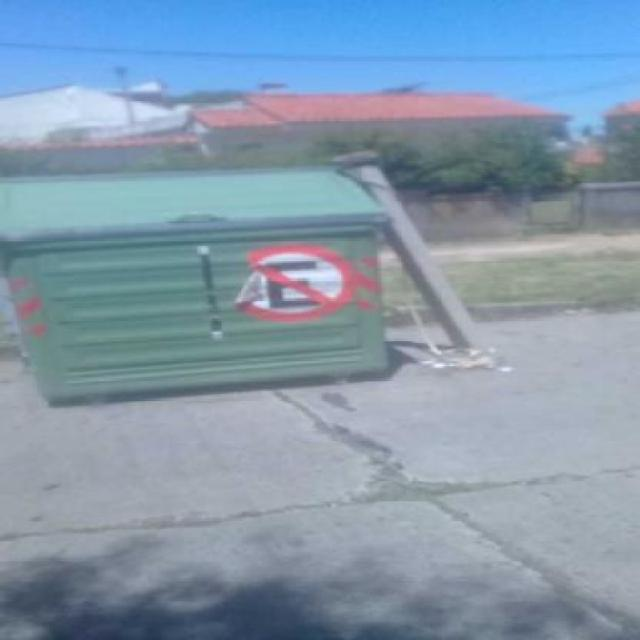garbage: (400, 331, 516, 390)
